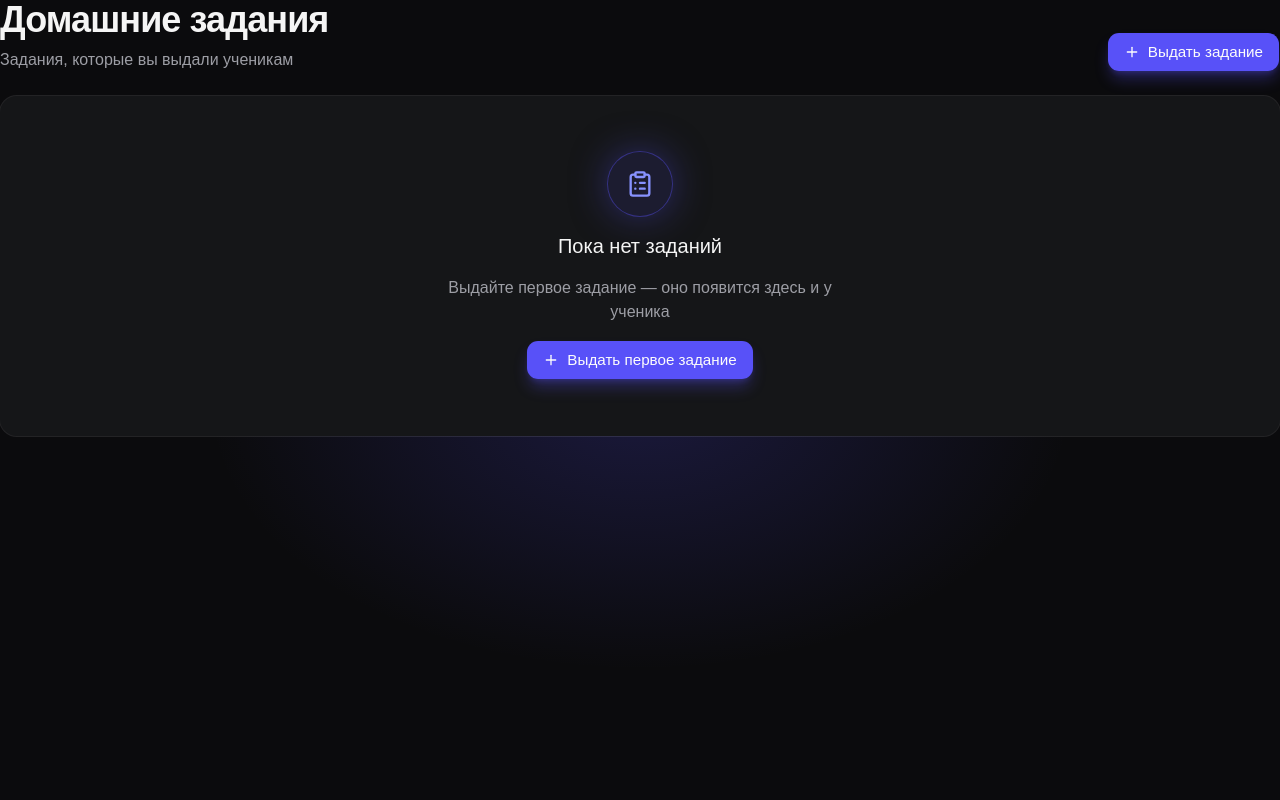
Test case: Валидация формы задания › пустая форма: сообщения у обязательных полей, фокус на первом, запрос не уходит
Click the button "Выдать задание".
click(1193, 52)  # box [1107, 32, 1279, 72]
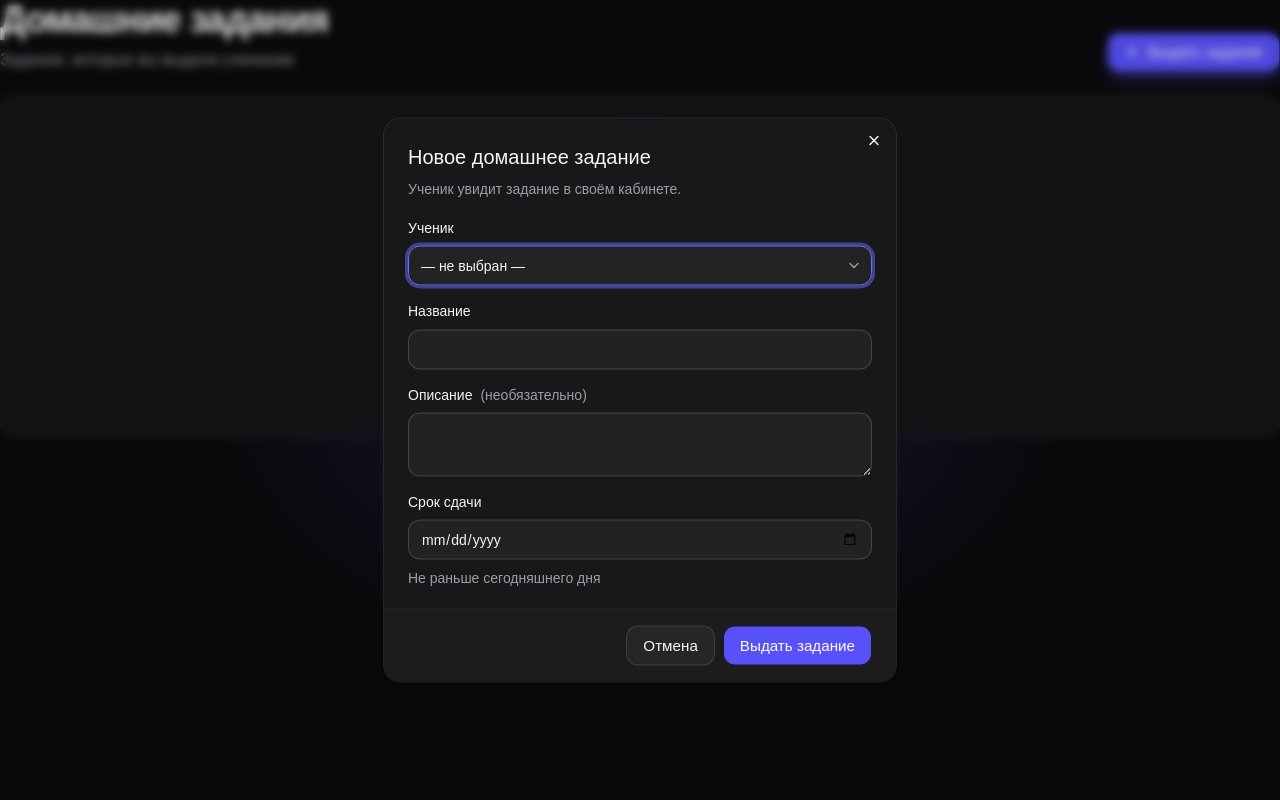
Click the button "Выдать задание".
click(797, 646)  # box [723, 626, 872, 666]
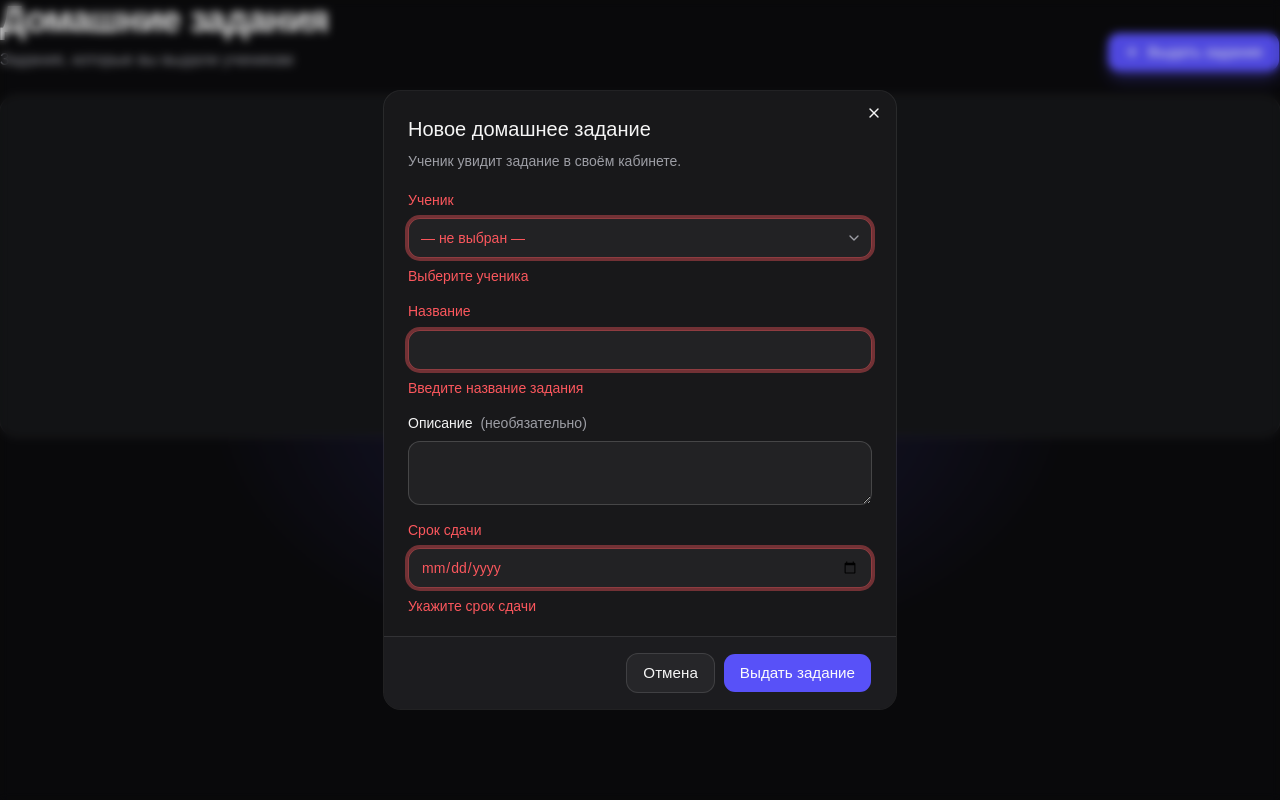
expect the text "Выберите ученика" is shown: met, box [408, 268, 528, 284]
expect the text "Введите название задания" is shown: met, box [408, 380, 583, 396]
expect the text "Укажите срок сдачи" is shown: met, box [408, 598, 536, 614]
